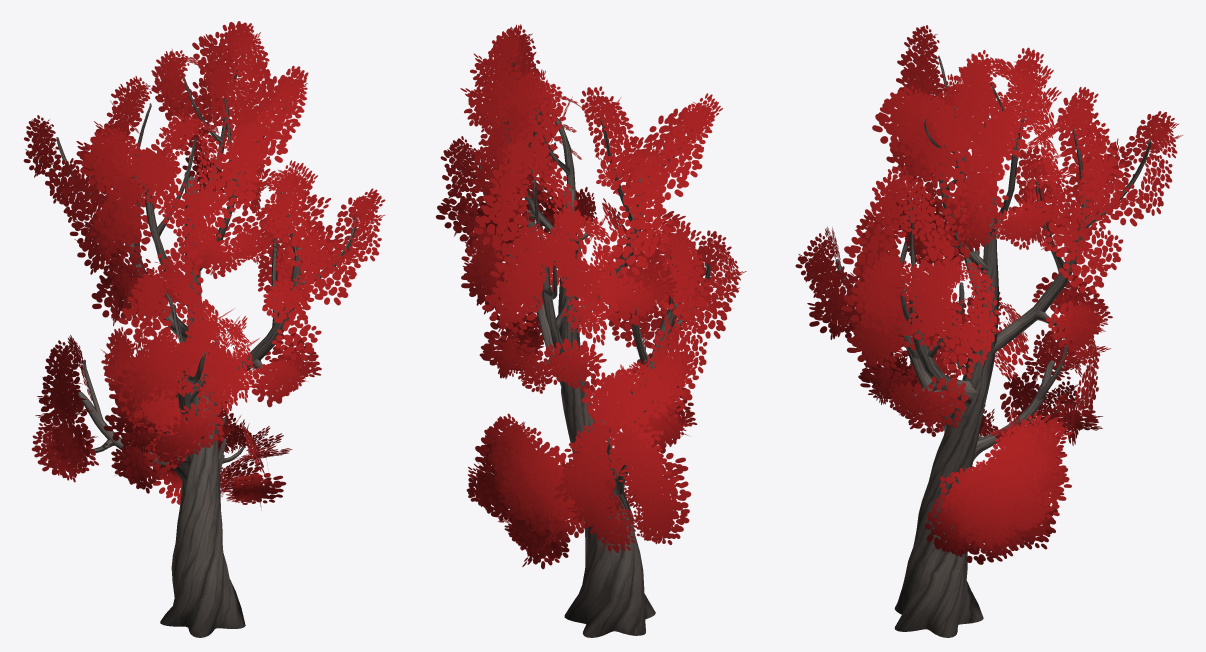
Rendered from quaternius-stylized-nature-twisted-tree.glb.
3 views of the same model, side by side, from view 1: azimuth 30°, elevation 25°; view 2: azimuth 150°, elevation 25°; view 3: azimuth 270°, elevation 25° (orthographic). The views are drawn at different scales.
Parts seen in each view (by area): view 1: TwistedTree_4; view 2: TwistedTree_4; view 3: TwistedTree_4.
Boxes of the visible parts, left/top/right/bottom form: TwistedTree_4: left=23, top=21, right=385, bottom=637; TwistedTree_4: left=436, top=24, right=746, bottom=637; TwistedTree_4: left=795, top=25, right=1182, bottom=637.
Size of the model in its own units: 10.38 by 18.74 by 11.29.
2 materials, 2 textured.
